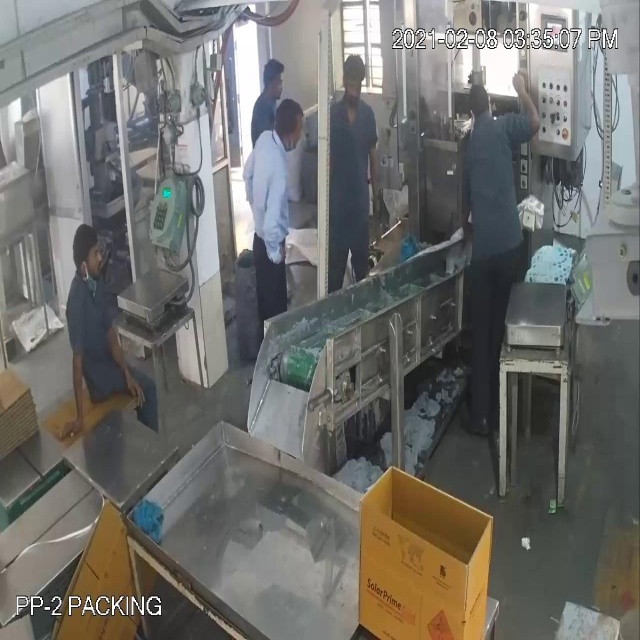Sin_guantes: (46, 321, 91, 453), (99, 309, 152, 420), (260, 166, 293, 276), (509, 63, 545, 140), (368, 132, 383, 212)
